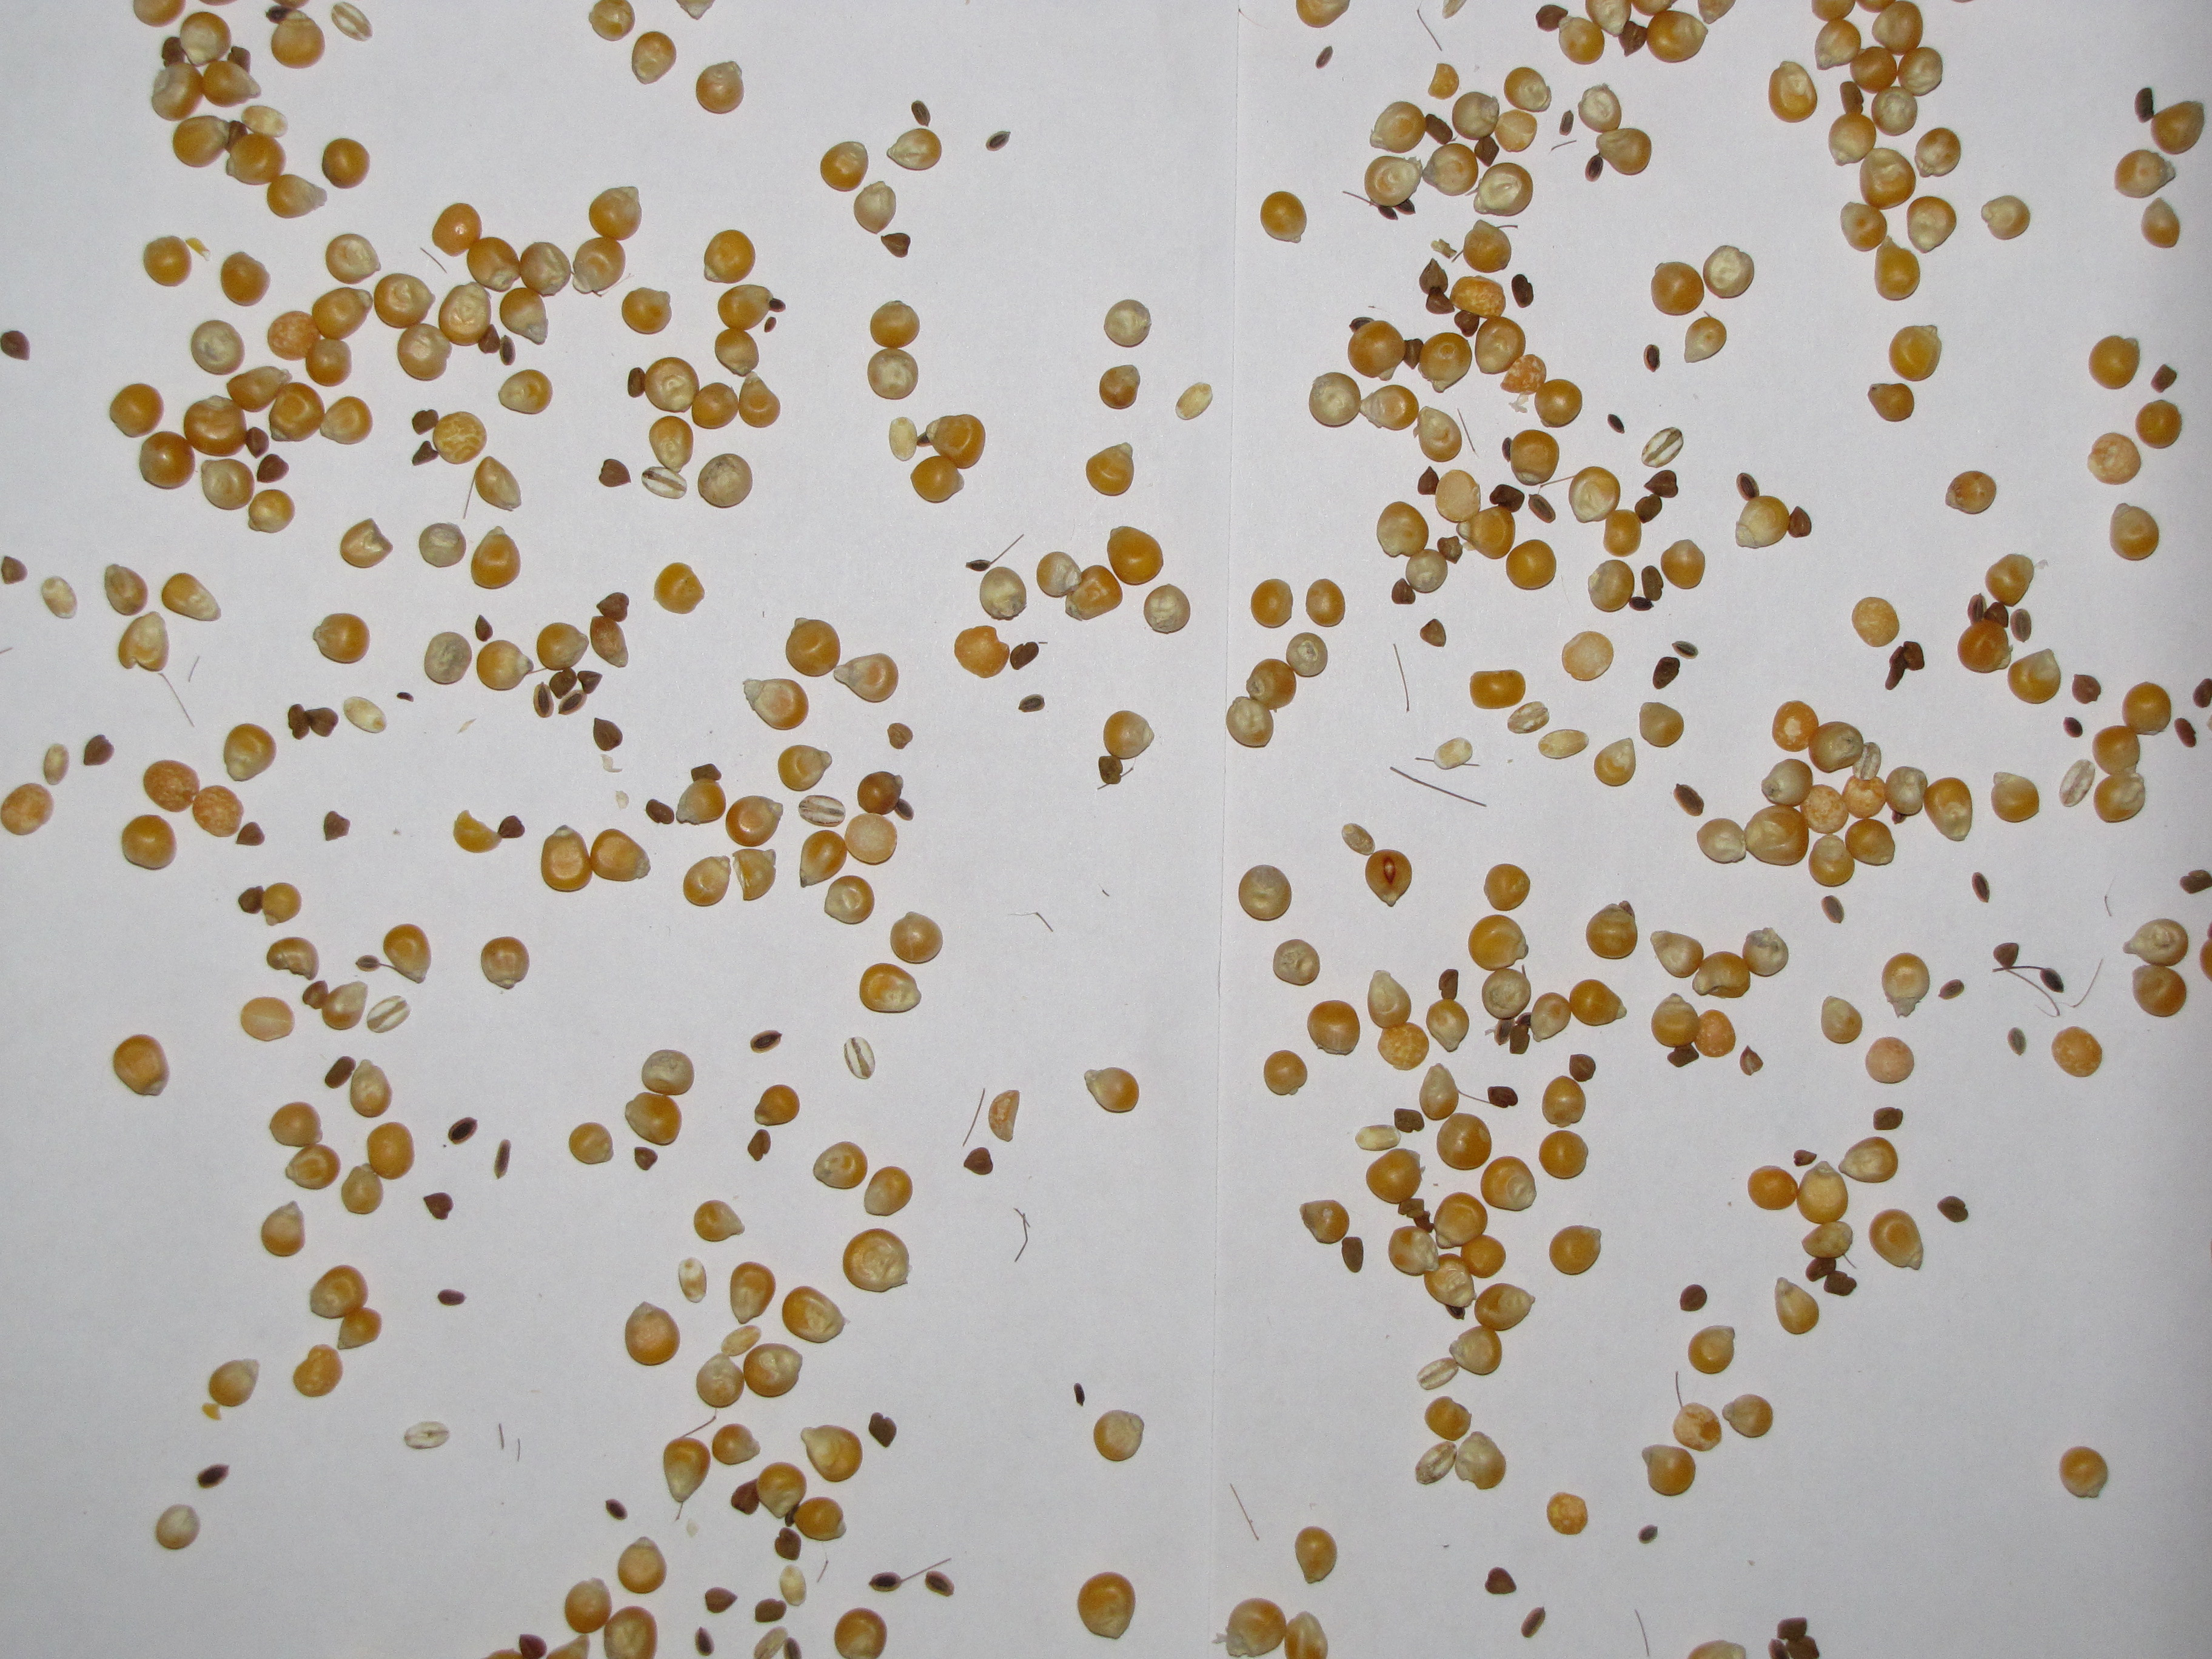mais: (1425, 969, 1470, 1053), (1451, 220, 1517, 274), (301, 981, 368, 1032), (676, 763, 726, 826), (453, 810, 524, 854), (475, 640, 535, 692), (1641, 1443, 1696, 1497), (2006, 648, 2060, 704), (589, 592, 629, 667), (162, 572, 221, 622), (730, 1262, 777, 1324), (237, 882, 301, 927), (219, 251, 272, 307), (2088, 335, 2141, 390), (1838, 1136, 1898, 1183), (890, 911, 944, 964), (1703, 246, 1756, 300), (326, 234, 381, 284), (1907, 195, 1956, 253), (1366, 849, 1413, 908), (1505, 538, 1557, 591), (340, 518, 394, 568), (1561, 631, 1615, 681), (1548, 1225, 1602, 1276), (1094, 1410, 1144, 1462), (1085, 443, 1134, 497), (481, 936, 529, 990), (423, 631, 472, 685), (813, 1141, 867, 1190), (695, 61, 744, 115), (777, 744, 833, 791), (1083, 1066, 1139, 1114), (824, 875, 874, 925), (1851, 596, 1900, 648), (1259, 192, 1308, 244), (683, 856, 732, 908), (1991, 772, 2040, 824), (631, 31, 678, 85), (979, 566, 1026, 620), (498, 369, 554, 415), (1775, 1277, 1818, 1335), (1294, 1527, 1338, 1584), (1143, 584, 1191, 634), (864, 1166, 913, 1216), (820, 141, 869, 192), (1538, 1131, 1588, 1180), (620, 288, 672, 335), (322, 138, 369, 190), (1541, 1075, 1587, 1129), (887, 127, 942, 171), (261, 1201, 305, 1256), (2135, 399, 2182, 450), (1914, 127, 1961, 178), (1688, 1324, 1735, 1375), (732, 849, 777, 901), (853, 181, 897, 235), (1503, 66, 1552, 113), (1484, 863, 1531, 911), (1865, 1037, 1914, 1084), (1980, 195, 2031, 240), (1299, 1199, 1350, 1244), (1660, 538, 1705, 589), (693, 1199, 745, 1243), (266, 938, 319, 981), (1721, 1394, 1773, 1438), (105, 565, 148, 617), (1470, 669, 1526, 709), (1273, 939, 1320, 986), (247, 488, 296, 533), (1251, 579, 1294, 629), (1946, 471, 1996, 514), (965, 535, 1024, 572), (1425, 1396, 1472, 1441), (1594, 737, 1635, 788), (1639, 702, 1684, 748), (1264, 1049, 1308, 1096), (1820, 995, 1862, 1044), (754, 1084, 801, 1126), (1885, 641, 1925, 690), (1306, 579, 1346, 627), (287, 704, 340, 741), (1099, 364, 1141, 410), (568, 1122, 613, 1164), (1641, 427, 1684, 469), (1547, 1492, 1588, 1535), (1867, 383, 1914, 422), (988, 1089, 1021, 1143), (798, 795, 846, 828), (1538, 728, 1588, 760), (1176, 382, 1214, 420), (1507, 701, 1550, 734), (1428, 63, 1460, 99), (1393, 645, 1409, 711), (324, 1056, 355, 1089), (1674, 784, 1705, 817), (592, 718, 624, 751), (869, 1412, 897, 1448), (84, 734, 115, 765), (256, 453, 289, 483), (599, 458, 631, 488), (1484, 1567, 1517, 1595), (1653, 657, 1681, 690), (775, 1527, 801, 1561), (2073, 674, 2102, 704), (1341, 1236, 1364, 1272), (1527, 493, 1555, 523), (448, 1117, 477, 1145), (1010, 641, 1040, 669), (423, 1192, 453, 1220), (963, 1147, 993, 1175), (880, 232, 911, 258), (1937, 1195, 1968, 1222), (324, 810, 350, 842), (705, 1588, 737, 1614), (747, 1129, 772, 1162), (754, 1598, 787, 1622), (1512, 274, 1534, 308), (2010, 608, 2033, 643), (0, 556, 28, 584), (1679, 1284, 1707, 1312), (644, 798, 674, 824), (1872, 1107, 1904, 1131), (1393, 1108, 1425, 1133), (1458, 410, 1475, 451), (1420, 619, 1446, 647), (1569, 1054, 1595, 1082), (235, 821, 265, 845), (751, 1030, 782, 1053), (1487, 1086, 1519, 1108), (887, 723, 913, 749), (2174, 718, 2196, 748), (1740, 1046, 1763, 1075), (493, 1140, 510, 1178), (1421, 19, 1442, 51), (1822, 896, 1844, 924), (1418, 465, 1439, 495), (1972, 871, 1991, 903), (1629, 3, 1653, 28), (634, 1147, 658, 1171), (1939, 979, 1965, 1000), (911, 99, 930, 127), (986, 131, 1010, 152), (1672, 641, 1698, 660), (1642, 345, 1660, 373), (475, 615, 493, 641), (437, 1290, 465, 1305), (1559, 110, 1575, 136), (843, 1042, 855, 1075), (2064, 716, 2083, 737), (1639, 1525, 1658, 1544), (1036, 911, 1054, 932), (1608, 413, 1625, 434), (1794, 1150, 1817, 1166), (430, 256, 448, 274), (1552, 139, 1576, 150), (1437, 1246, 1461, 1256), (1075, 1382, 1085, 1406), (765, 317, 777, 333), (397, 692, 413, 702), (1893, 54, 1904, 68), (197, 64, 209, 75), (421, 249, 432, 258), (1890, 78, 1900, 87), (1097, 784, 1108, 789), (1418, 10, 1423, 21)
